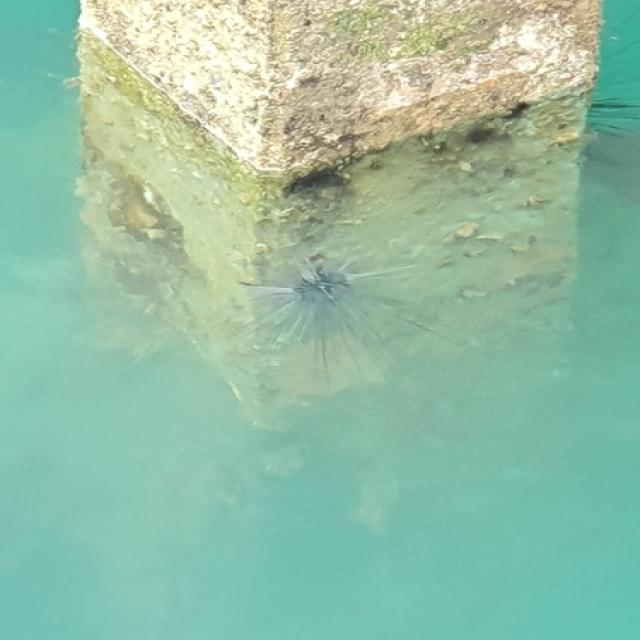Urchin: (227, 244, 492, 426)
